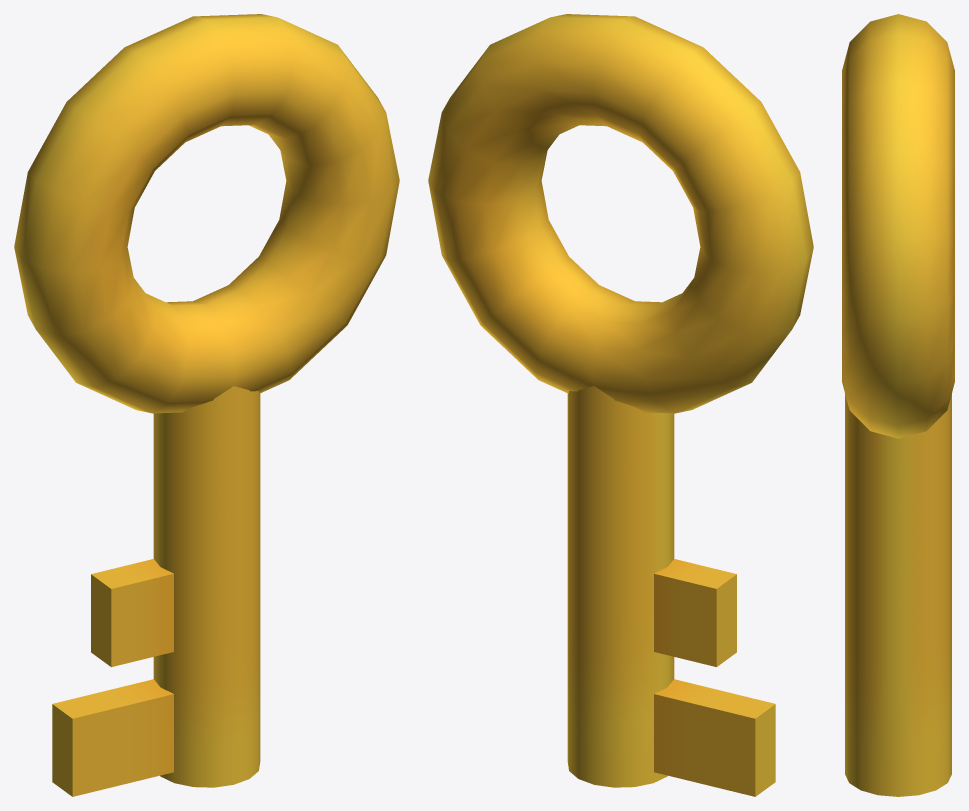
File: key.FBX
3 renders of one model, left to right at view 1: azimuth 30°, elevation 25°; view 2: azimuth 150°, elevation 25°; view 3: azimuth 270°, elevation 25°, orthographic.
Visible parts, largest first — view 1: key; view 2: key; view 3: key.
Boxes of the visible parts, x1,y1,x2,y2 form: key: (14, 14, 399, 796); key: (428, 14, 813, 796); key: (842, 14, 954, 796).
Size of the model in its own units: 22.19 by 42.65 by 5.88.
